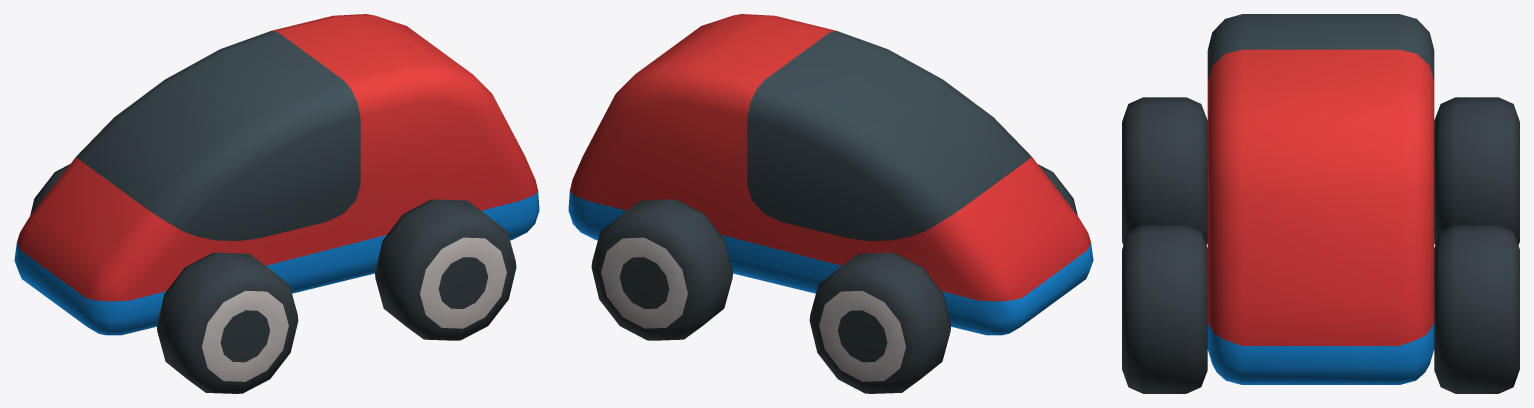
The model's file is Toy_02.fbx.
3 views of the same model, side by side, from view 1: azimuth 30°, elevation 25°; view 2: azimuth 150°, elevation 25°; view 3: azimuth 270°, elevation 25° (orthographic). The views are drawn at different scales.
Parts seen in each view (by area): view 1: Toy_02; view 2: Toy_02; view 3: Toy_02.
Boxes of the visible parts, x1,y1,x2,y2 form: Toy_02: (14,14,539,393); Toy_02: (568,14,1093,393); Toy_02: (1122,14,1519,393).
Size of the model in its own units: 0.2352 by 0.1224 by 0.149.
